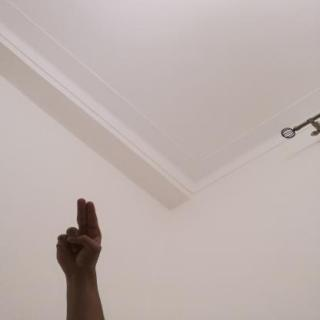TA: (48, 190, 108, 280)
